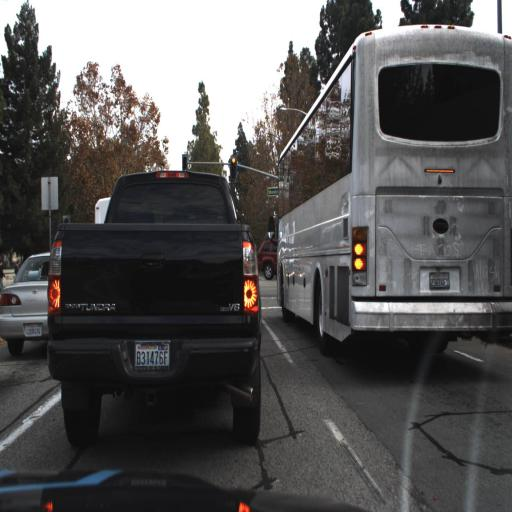car: (52, 172, 257, 432)
trafficLight: (181, 150, 188, 172), (229, 156, 236, 177)
trafficLight-Red: (228, 155, 237, 179)
truck: (275, 22, 511, 358)
